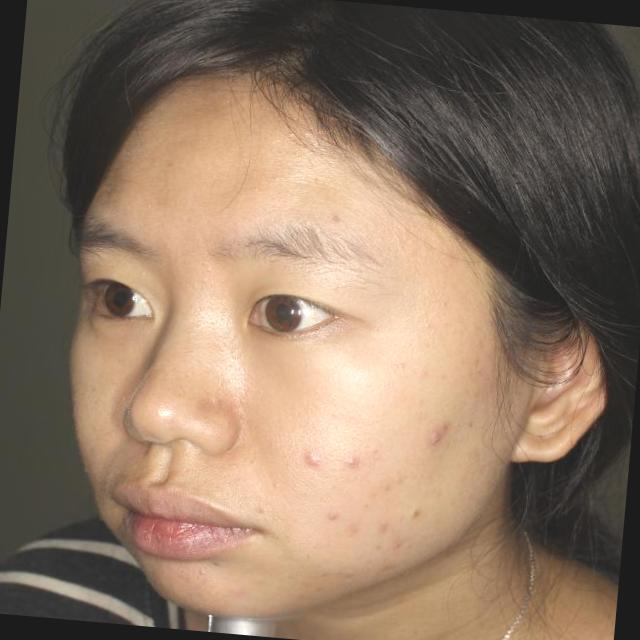acne: (426, 420, 456, 452), (405, 504, 441, 529), (339, 452, 364, 469), (368, 520, 396, 535), (296, 454, 322, 466), (318, 506, 336, 522)
